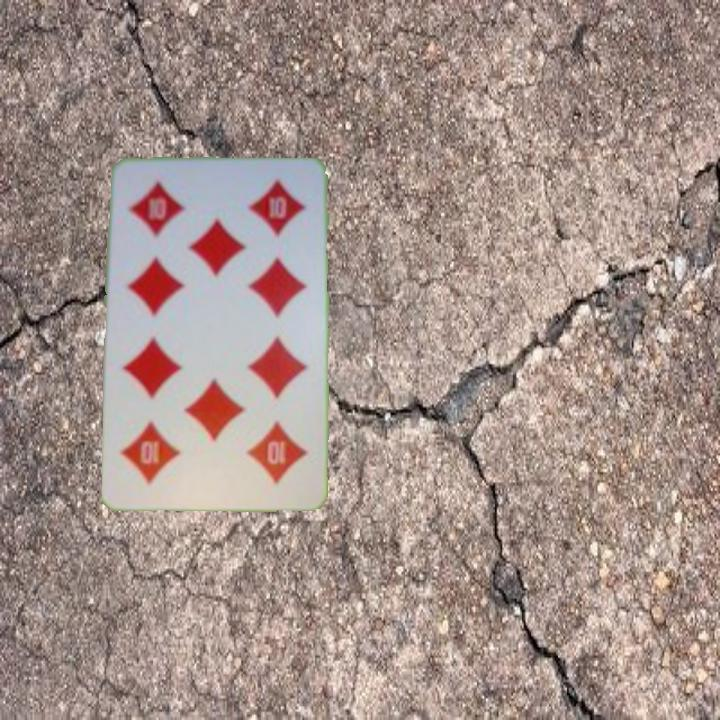d_10.png: (119, 172, 220, 259), (211, 409, 312, 496)
